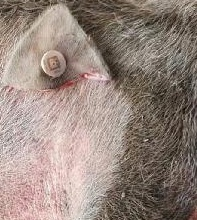text: (33, 41, 76, 89)
